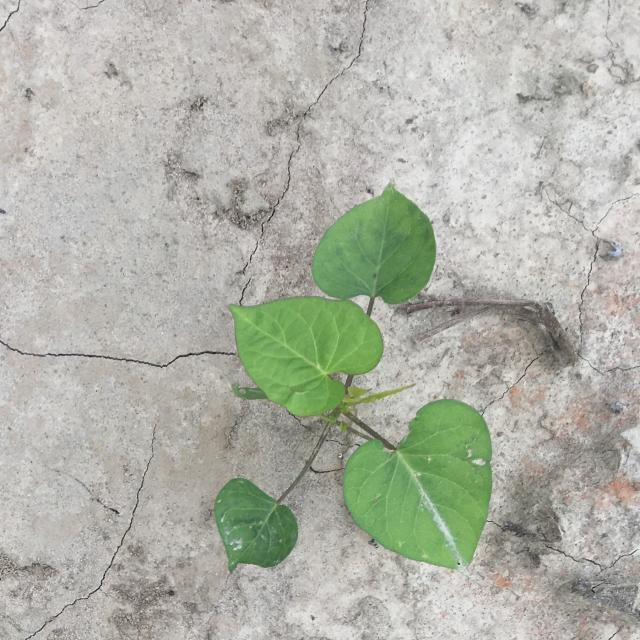MorningGlory: (213, 178, 492, 573)
